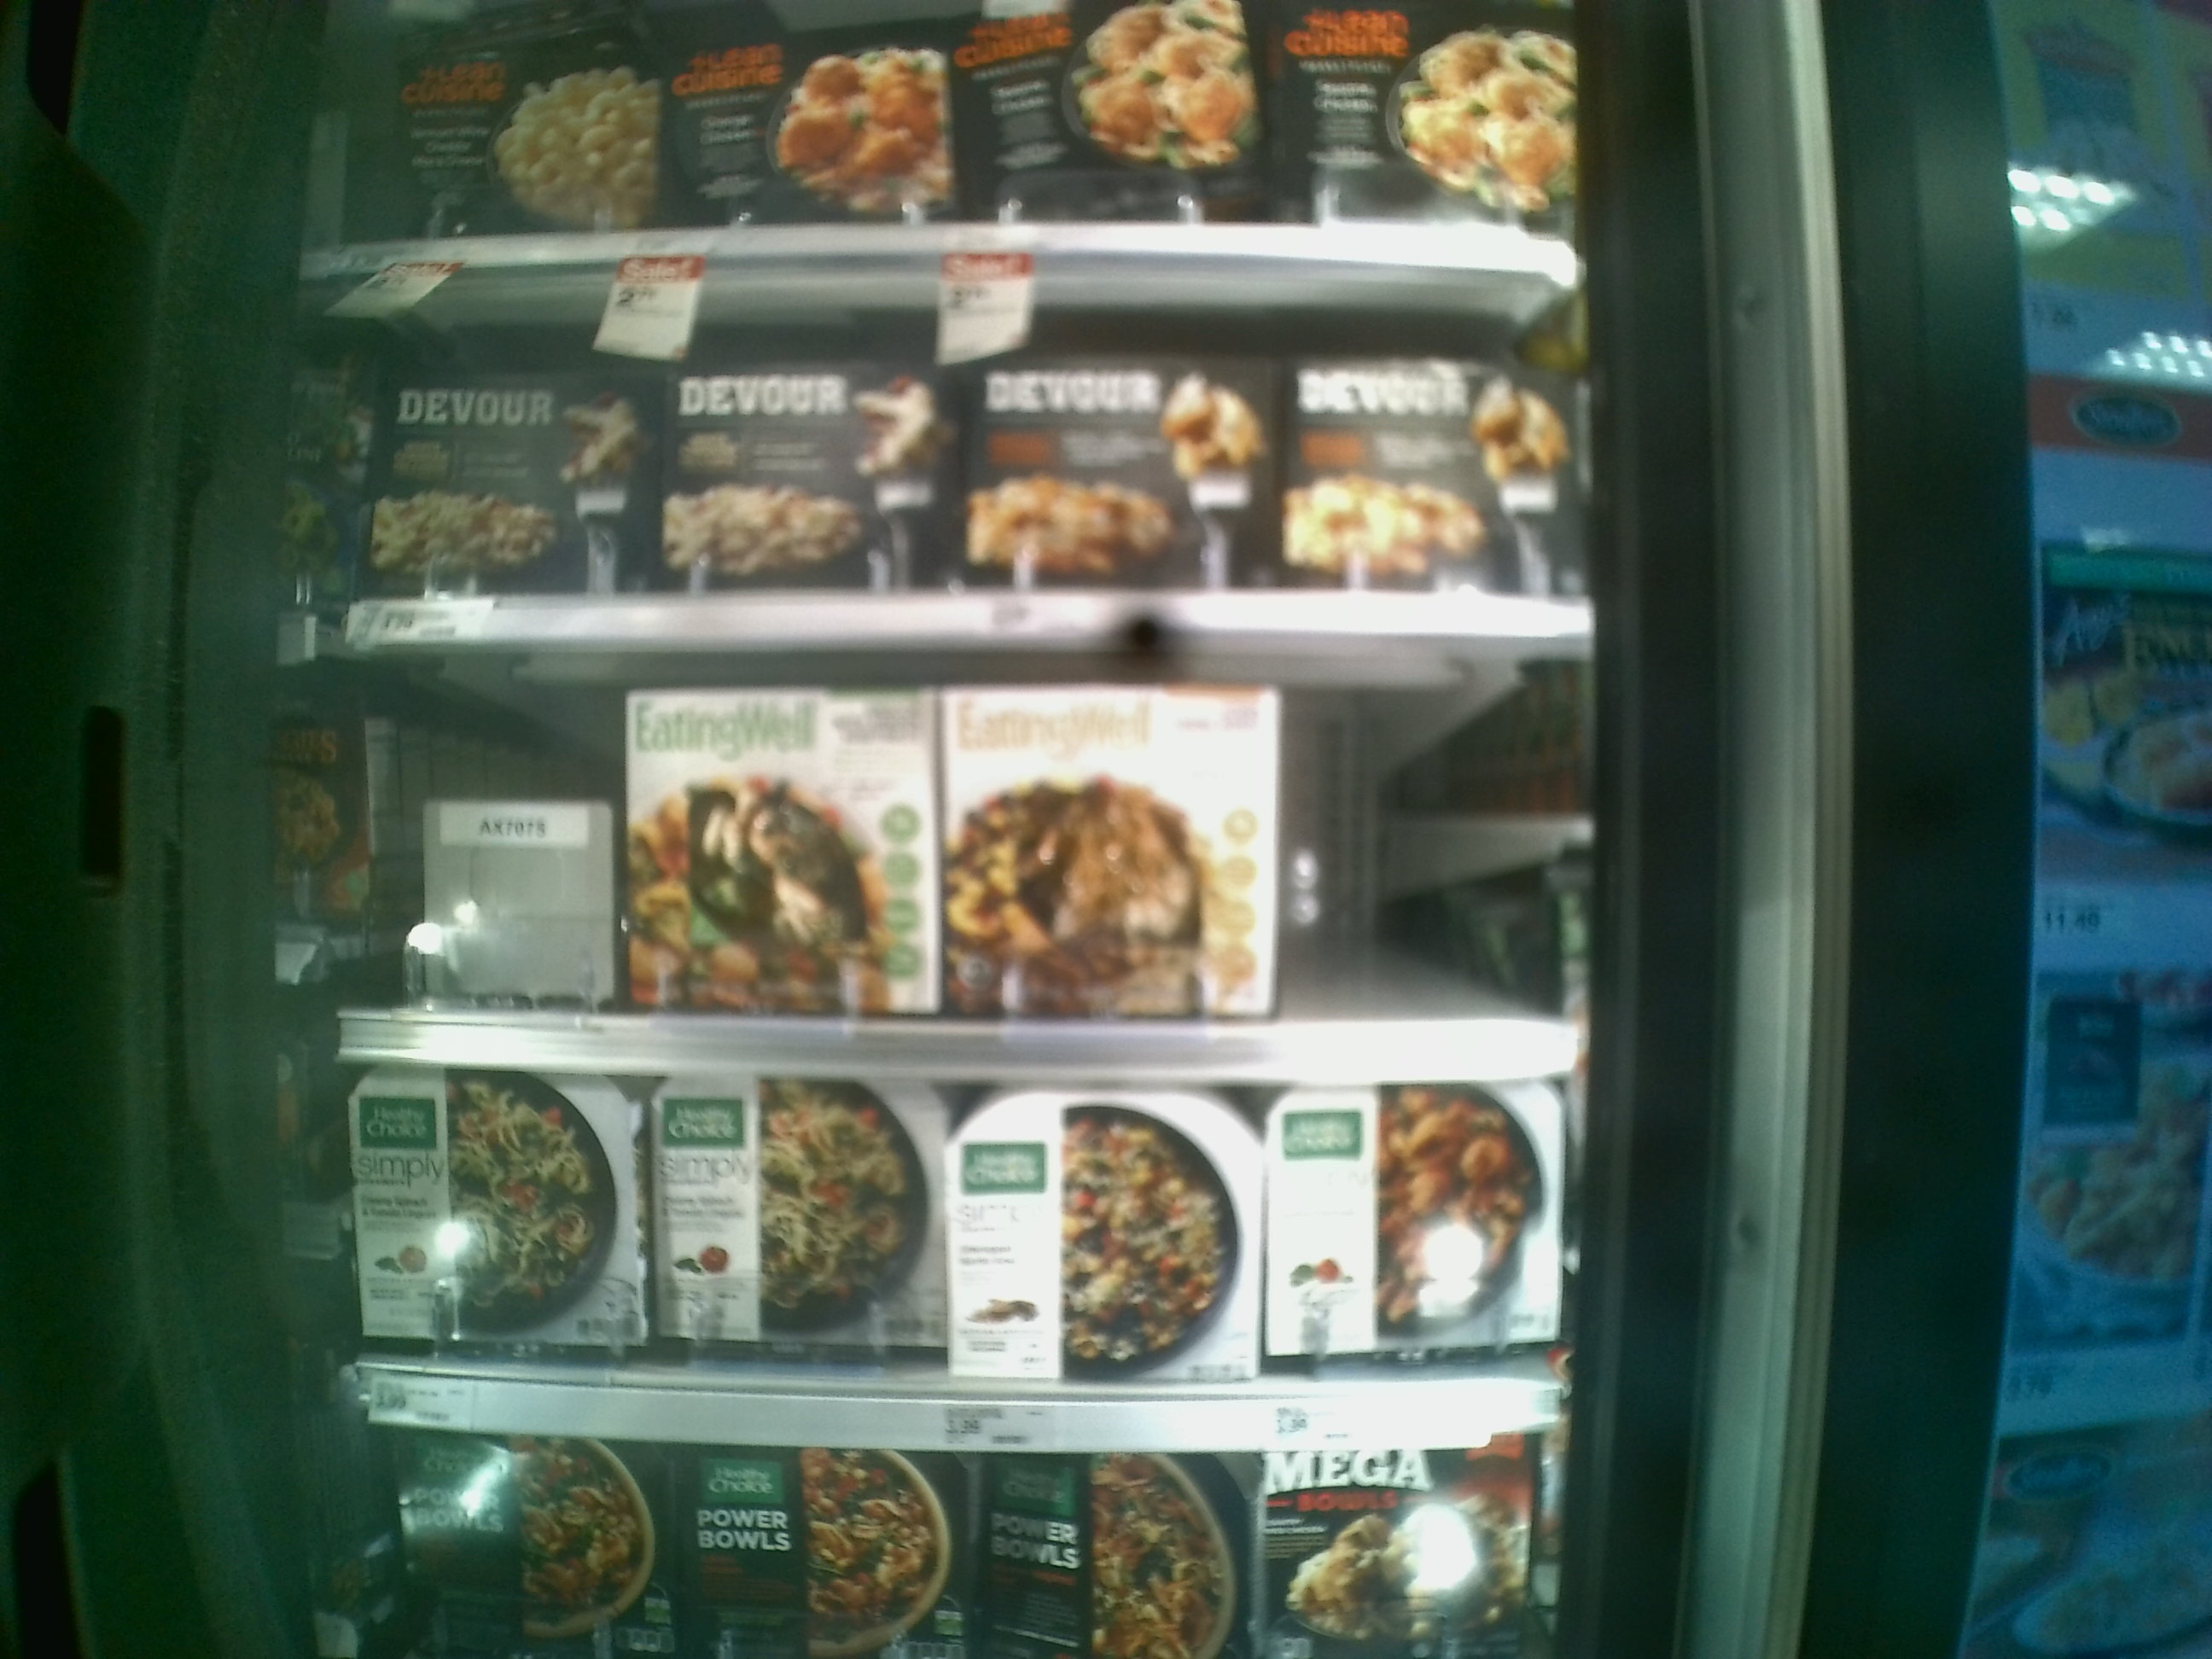shelf: (319, 643, 1590, 1079), (336, 1049, 1576, 1452), (289, 272, 1594, 638)
